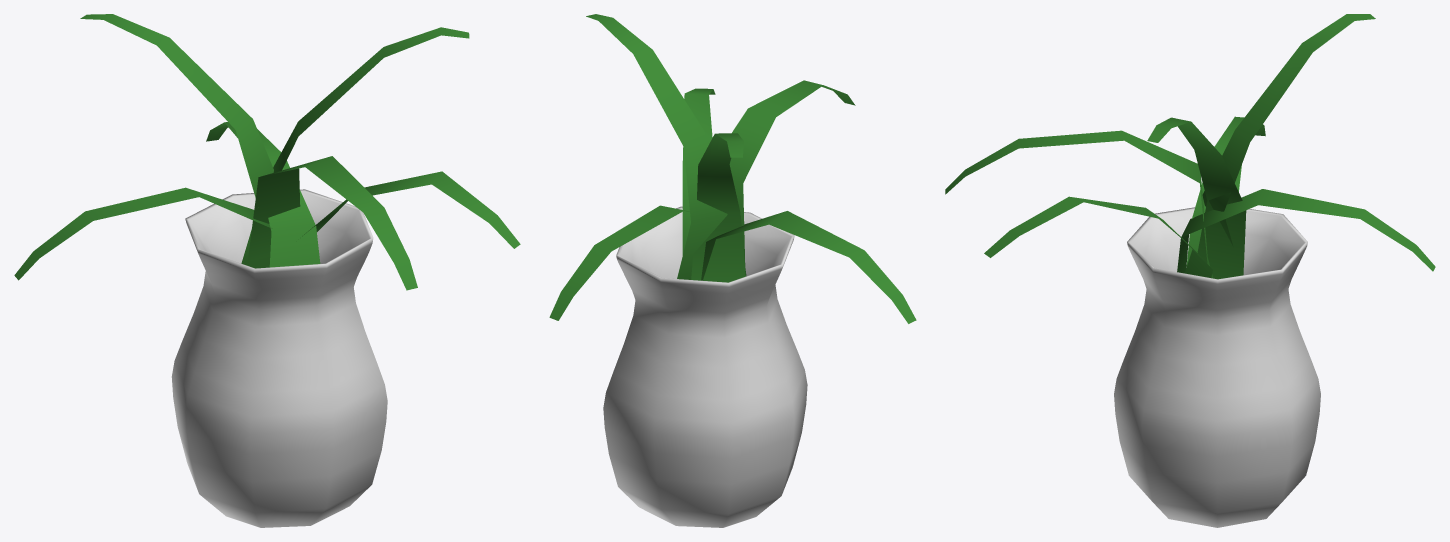
File: Plant.fbx
3 renders of one model, left to right at view 1: azimuth 30°, elevation 25°; view 2: azimuth 150°, elevation 25°; view 3: azimuth 270°, elevation 25°, orthographic. The views are drawn at different scales.
Parts seen in each view (by area): view 1: plant; view 2: plant; view 3: plant.
Boxes of the visible parts, x1=… form: plant: x1=14, y1=14, x2=520, y2=527; plant: x1=549, y1=14, x2=916, y2=527; plant: x1=945, y1=14, x2=1435, y2=527.
Size of the model in its own units: 149 by 167 by 165.
